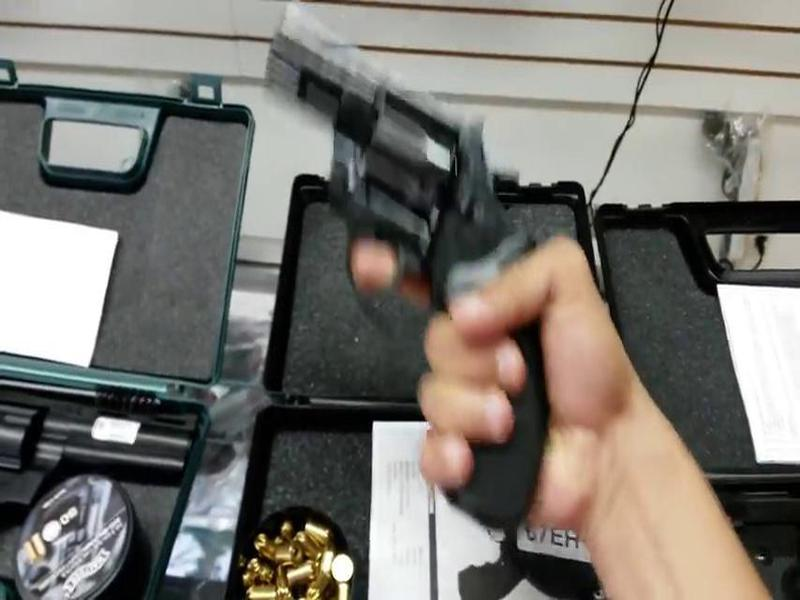Revolver: (247, 11, 565, 529)
